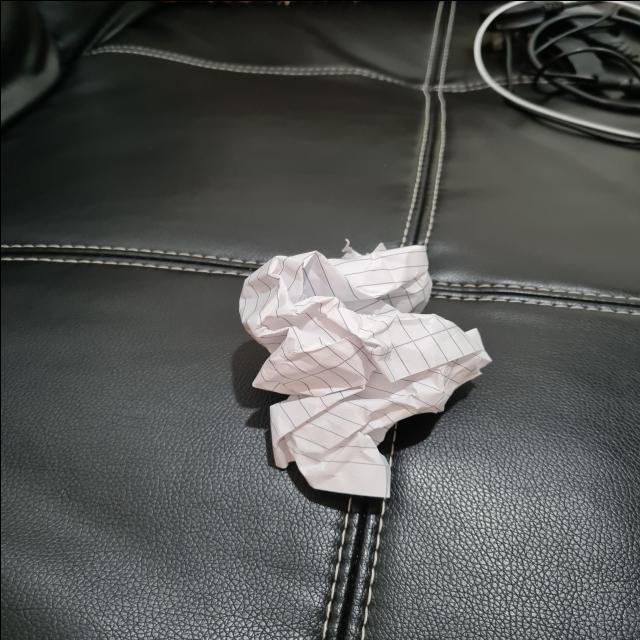kertas: (234, 246, 491, 494)
